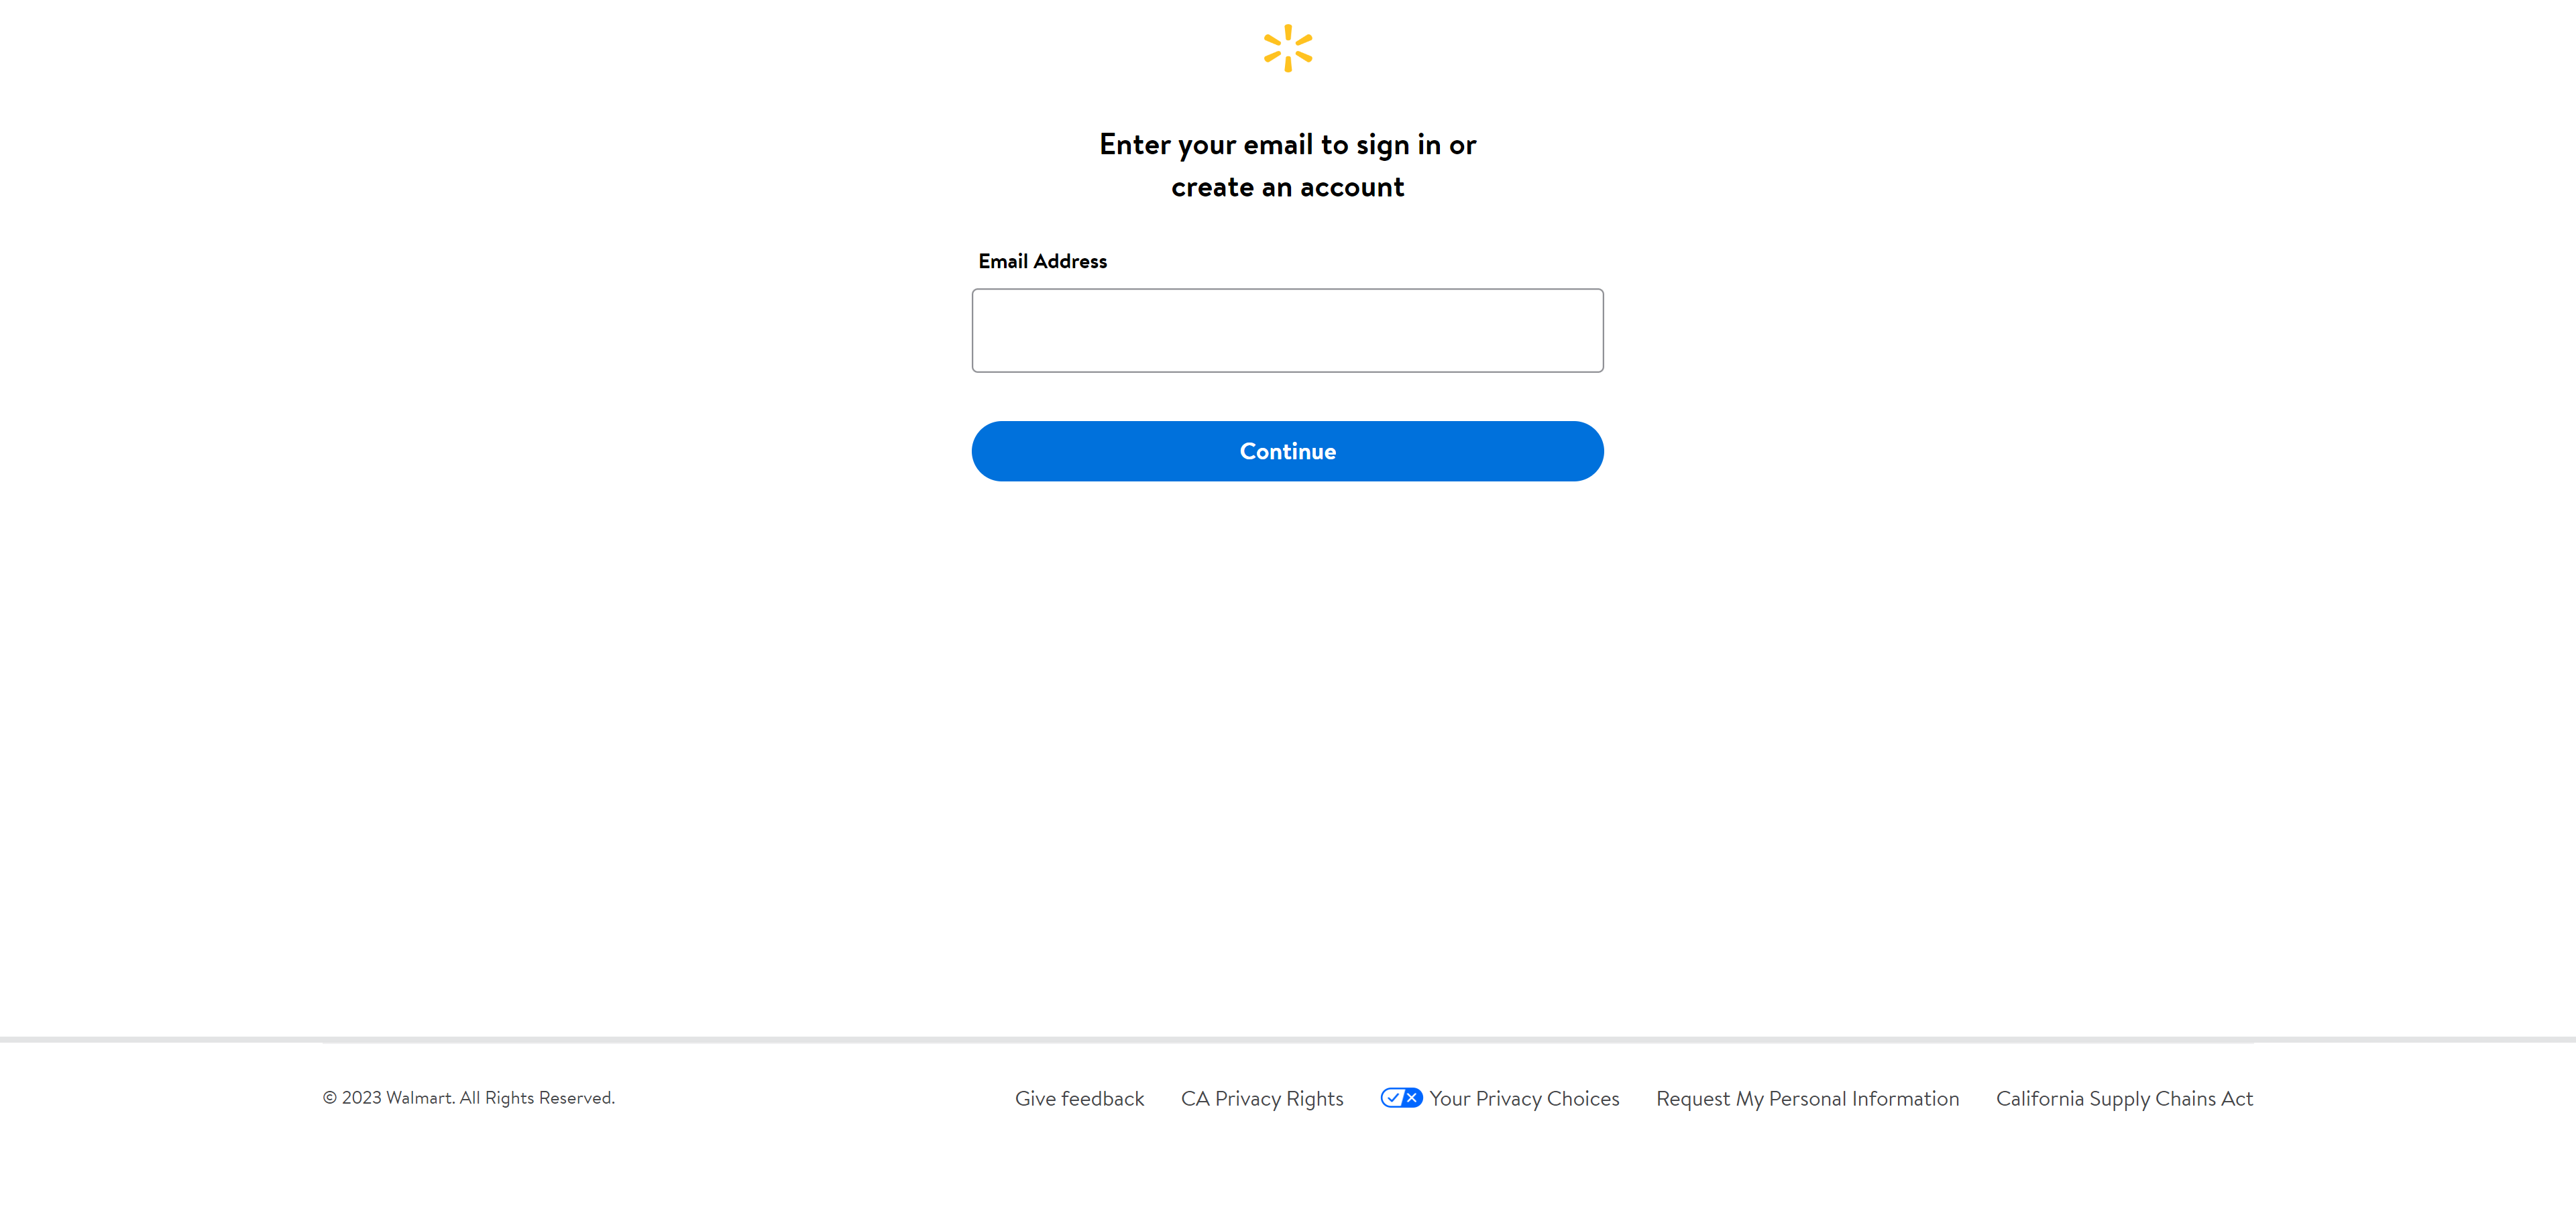login_button: (973, 421, 1605, 481)
login_form: (966, 247, 1612, 488)
